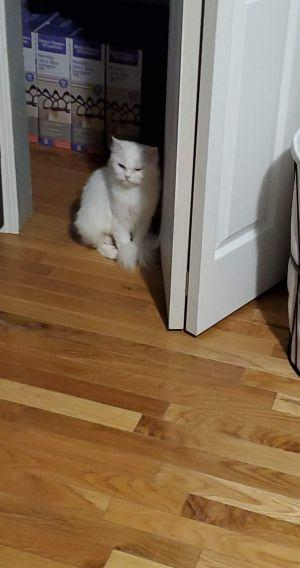persian: (105, 130, 168, 199)
